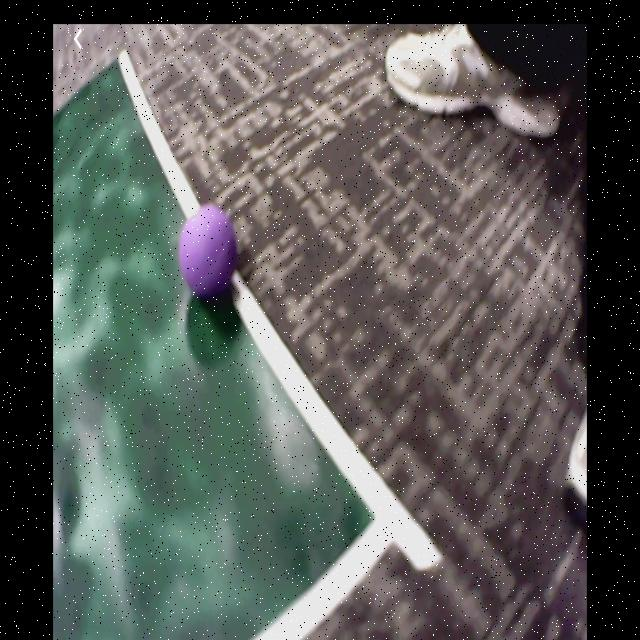ball: (180, 204, 236, 295)
